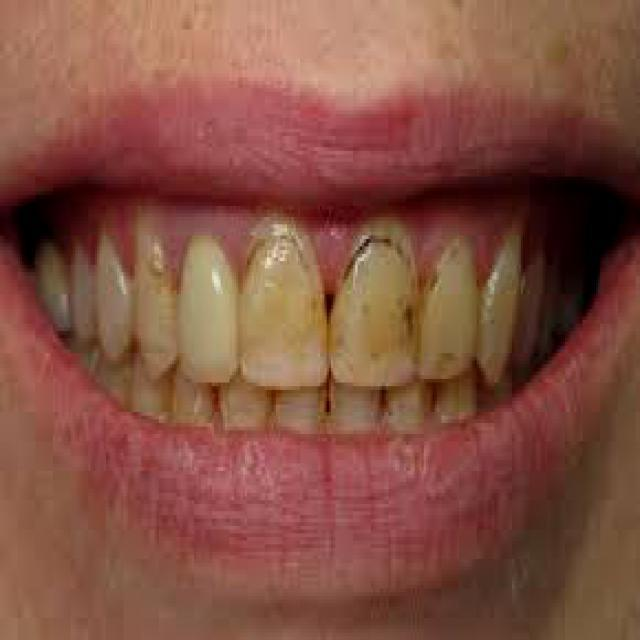ULCI_sdecay: (329, 213, 421, 386)
ULC_healthy: (477, 221, 527, 386)
ULLI_sdecay: (423, 235, 479, 380)
UR1BC_healthy: (94, 229, 133, 362)
URCI_sdecay: (239, 216, 328, 390)
URC_mdecay: (133, 210, 177, 377)
URLI_healthy: (179, 234, 238, 384)
